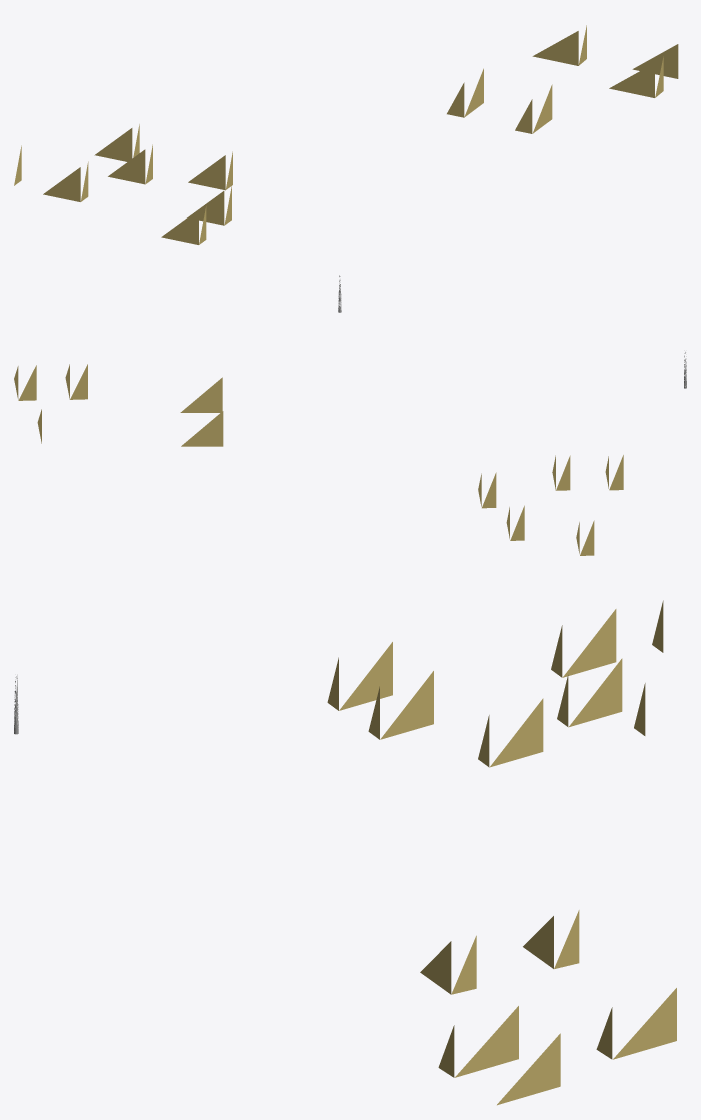
3 renders of one model, top to bottom at view 1: azimuth 30°, elevation 25°; view 2: azimuth 150°, elevation 25°; view 3: azimuth 270°, elevation 25°, orthographic. The views are drawn at different scales.
Bounding box in the file's own units: 230 × 14 × 142.
